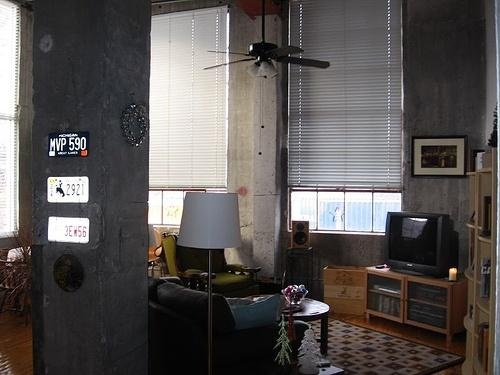tvmonitor: (381, 206, 460, 283)
